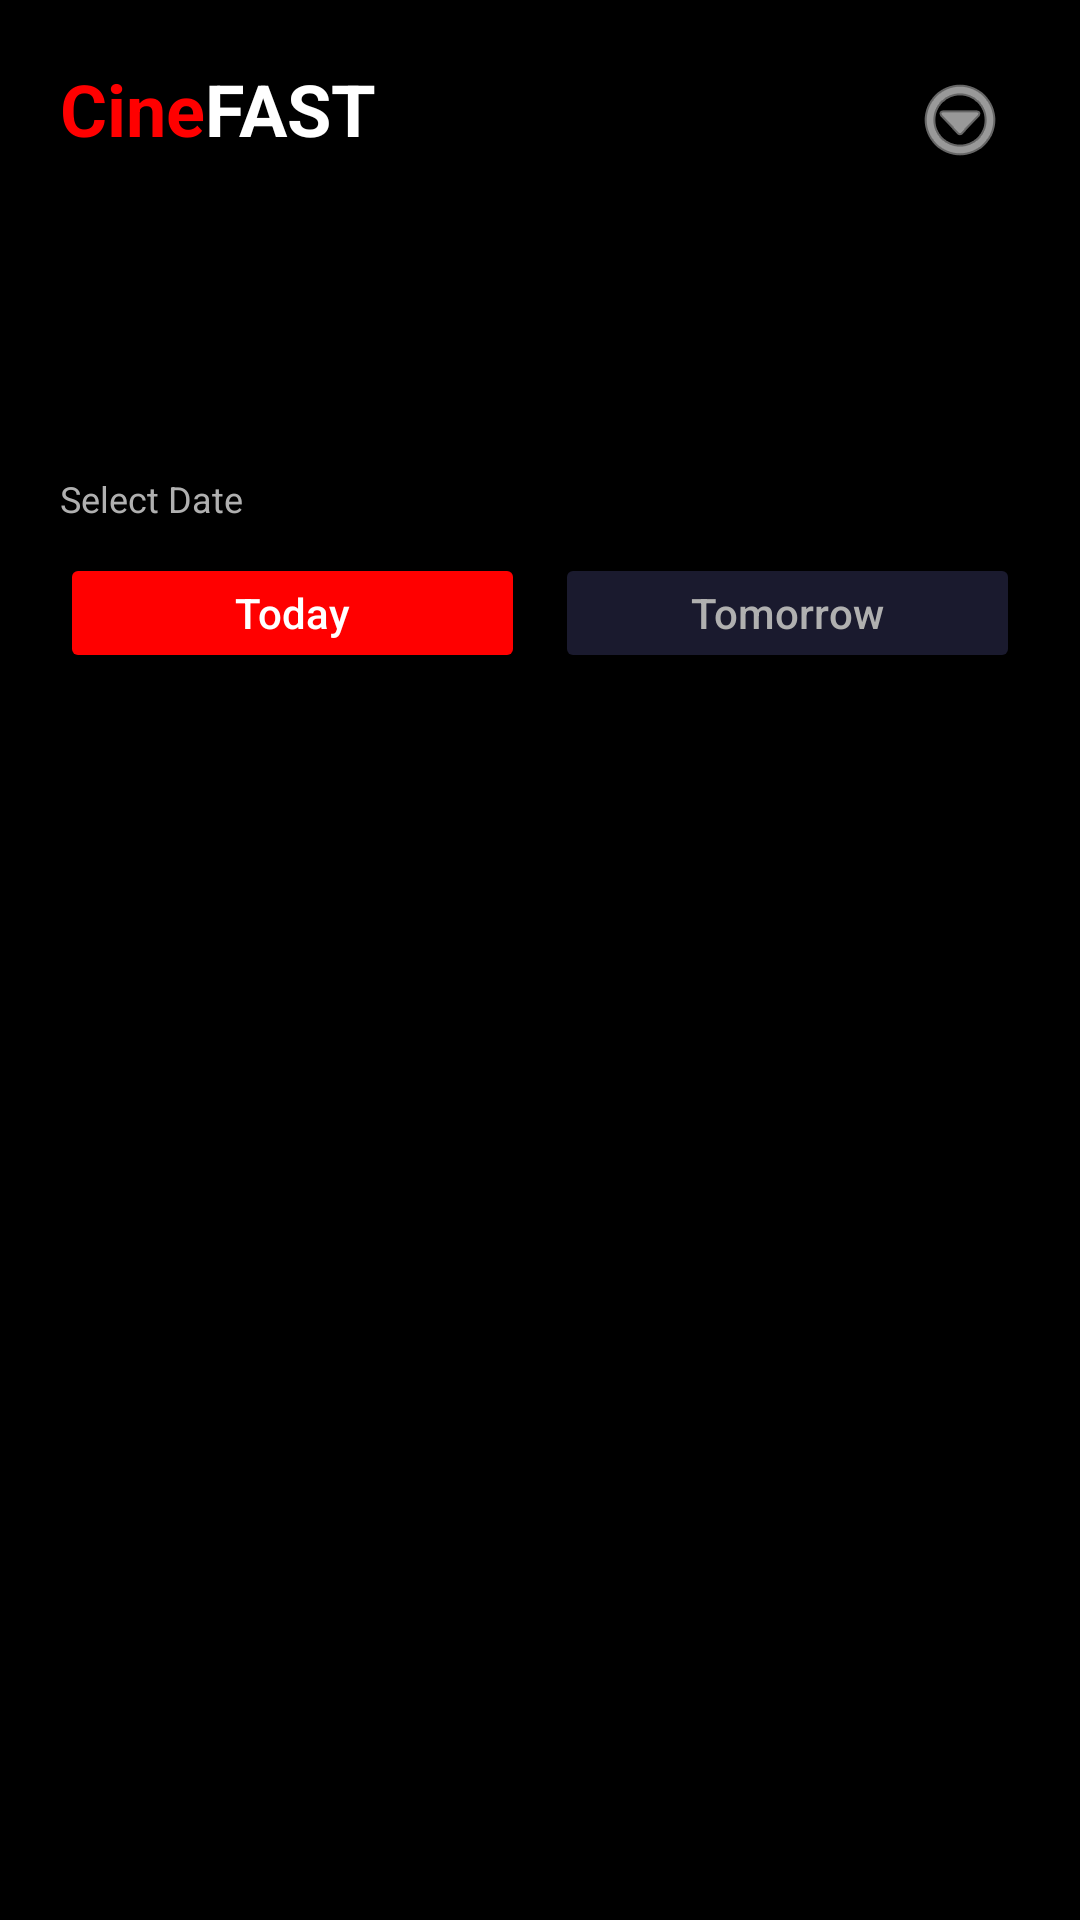

Locate icon controls on the screen. Image size 1080w x 1920h, boxes as [x1,y1,x2,y2].
Menu: [924,84,996,156]
